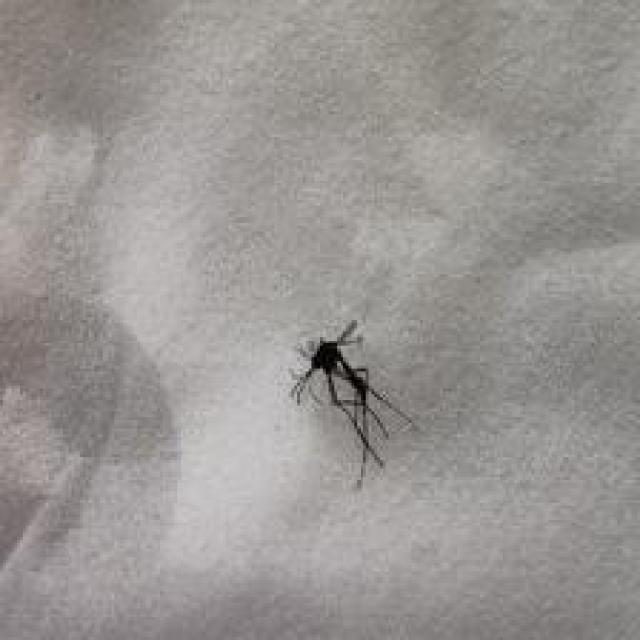Aedes albopictus: (287, 317, 416, 489)
